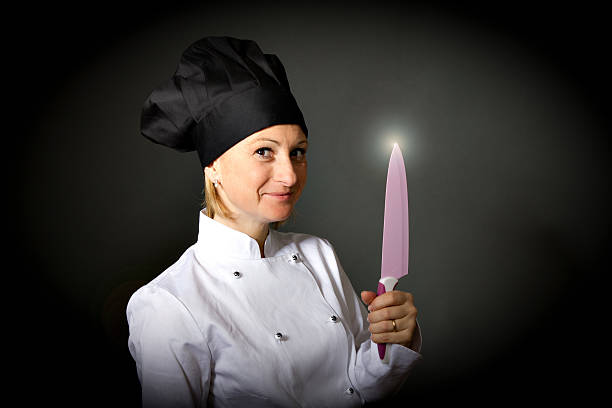knife: (375, 142, 409, 362)
